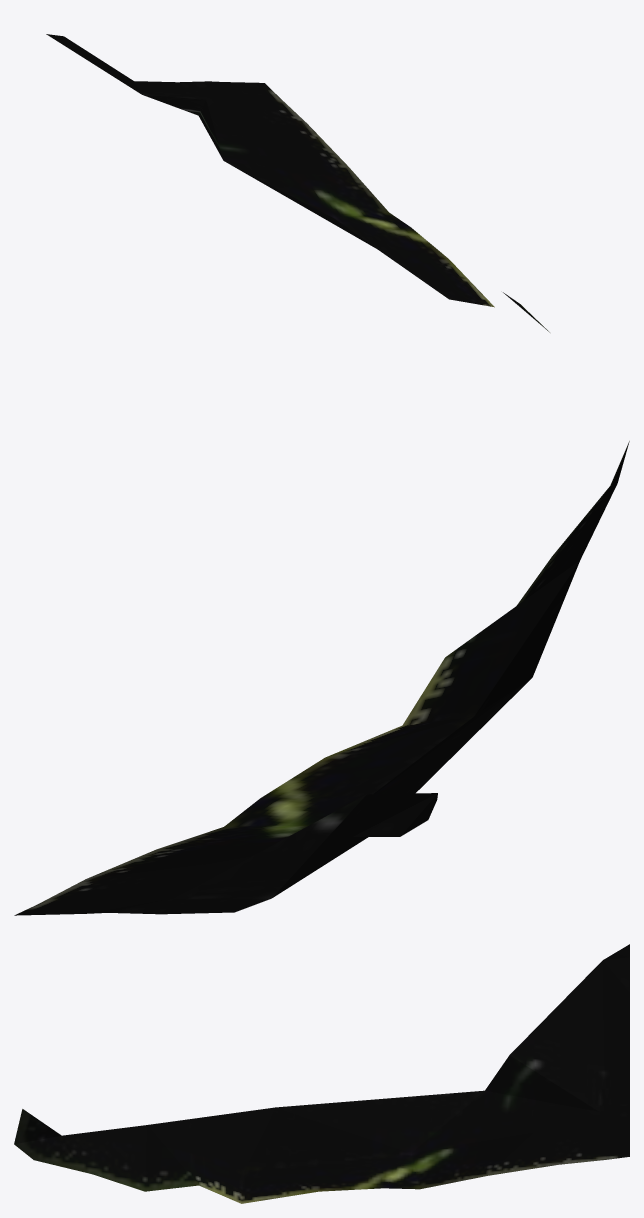
The picture shows the model from 3 angles, top to bottom: view 1: azimuth 30°, elevation 25°; view 2: azimuth 150°, elevation 25°; view 3: azimuth 270°, elevation 25°; orthographic projection. The views are drawn at different scales.
Size of the model in its own units: 0.9411 by 0.6655 by 2.37.
1 material, 1 textured.
